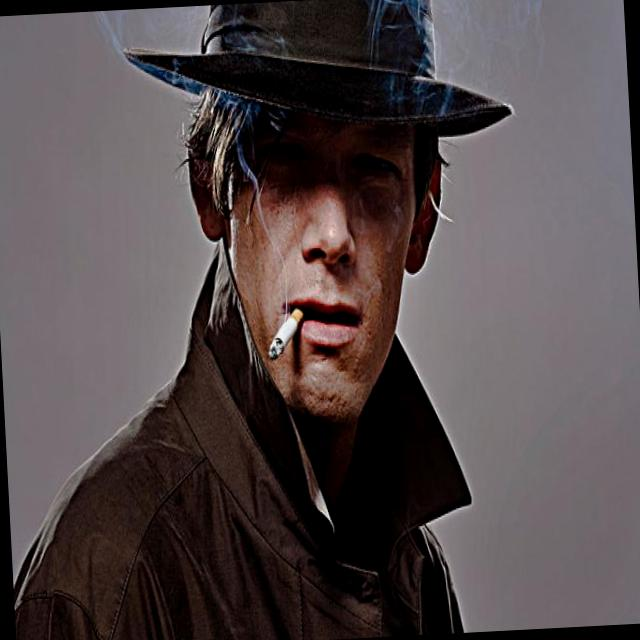cigarette: (259, 290, 318, 370)
